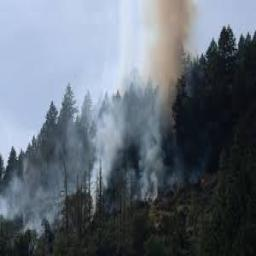Low smoke: (0, 0, 190, 186)
